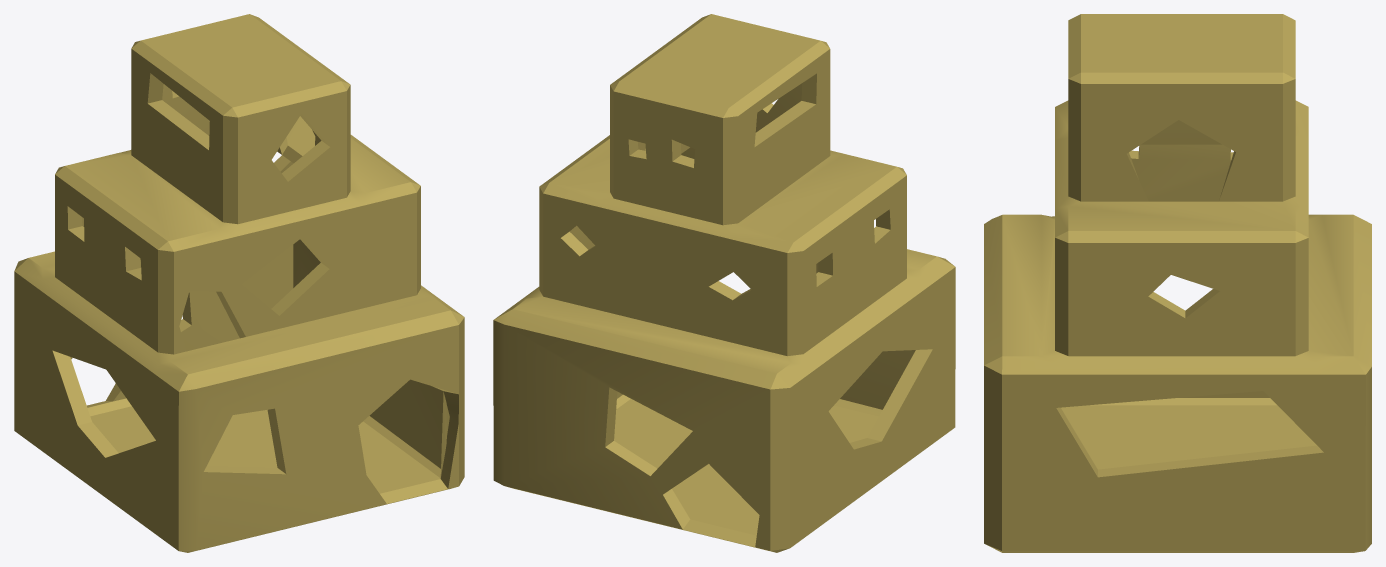
File: KaputtesHaus.fbx
3 views of the same model, side by side, from view 1: azimuth 30°, elevation 25°; view 2: azimuth 150°, elevation 25°; view 3: azimuth 270°, elevation 25° (orthographic). The views are drawn at different scales.
Parts seen in each view (by area): view 1: Cube; view 2: Cube; view 3: Cube.
Part boxes in pixels (x1=…): Cube: x1=14, y1=14, x2=464, y2=552; Cube: x1=493, y1=14, x2=955, y2=552; Cube: x1=984, y1=14, x2=1371, y2=552.
Size of the model in its own units: 665 by 874 by 698.
